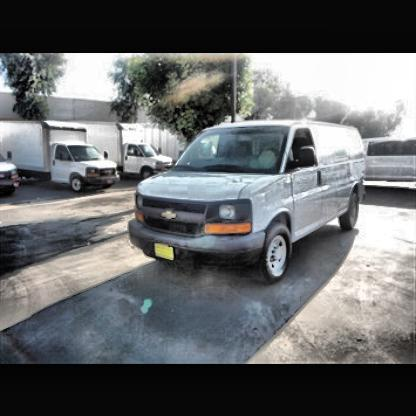Chevrolet Express Van 2007: (128, 121, 371, 290)
